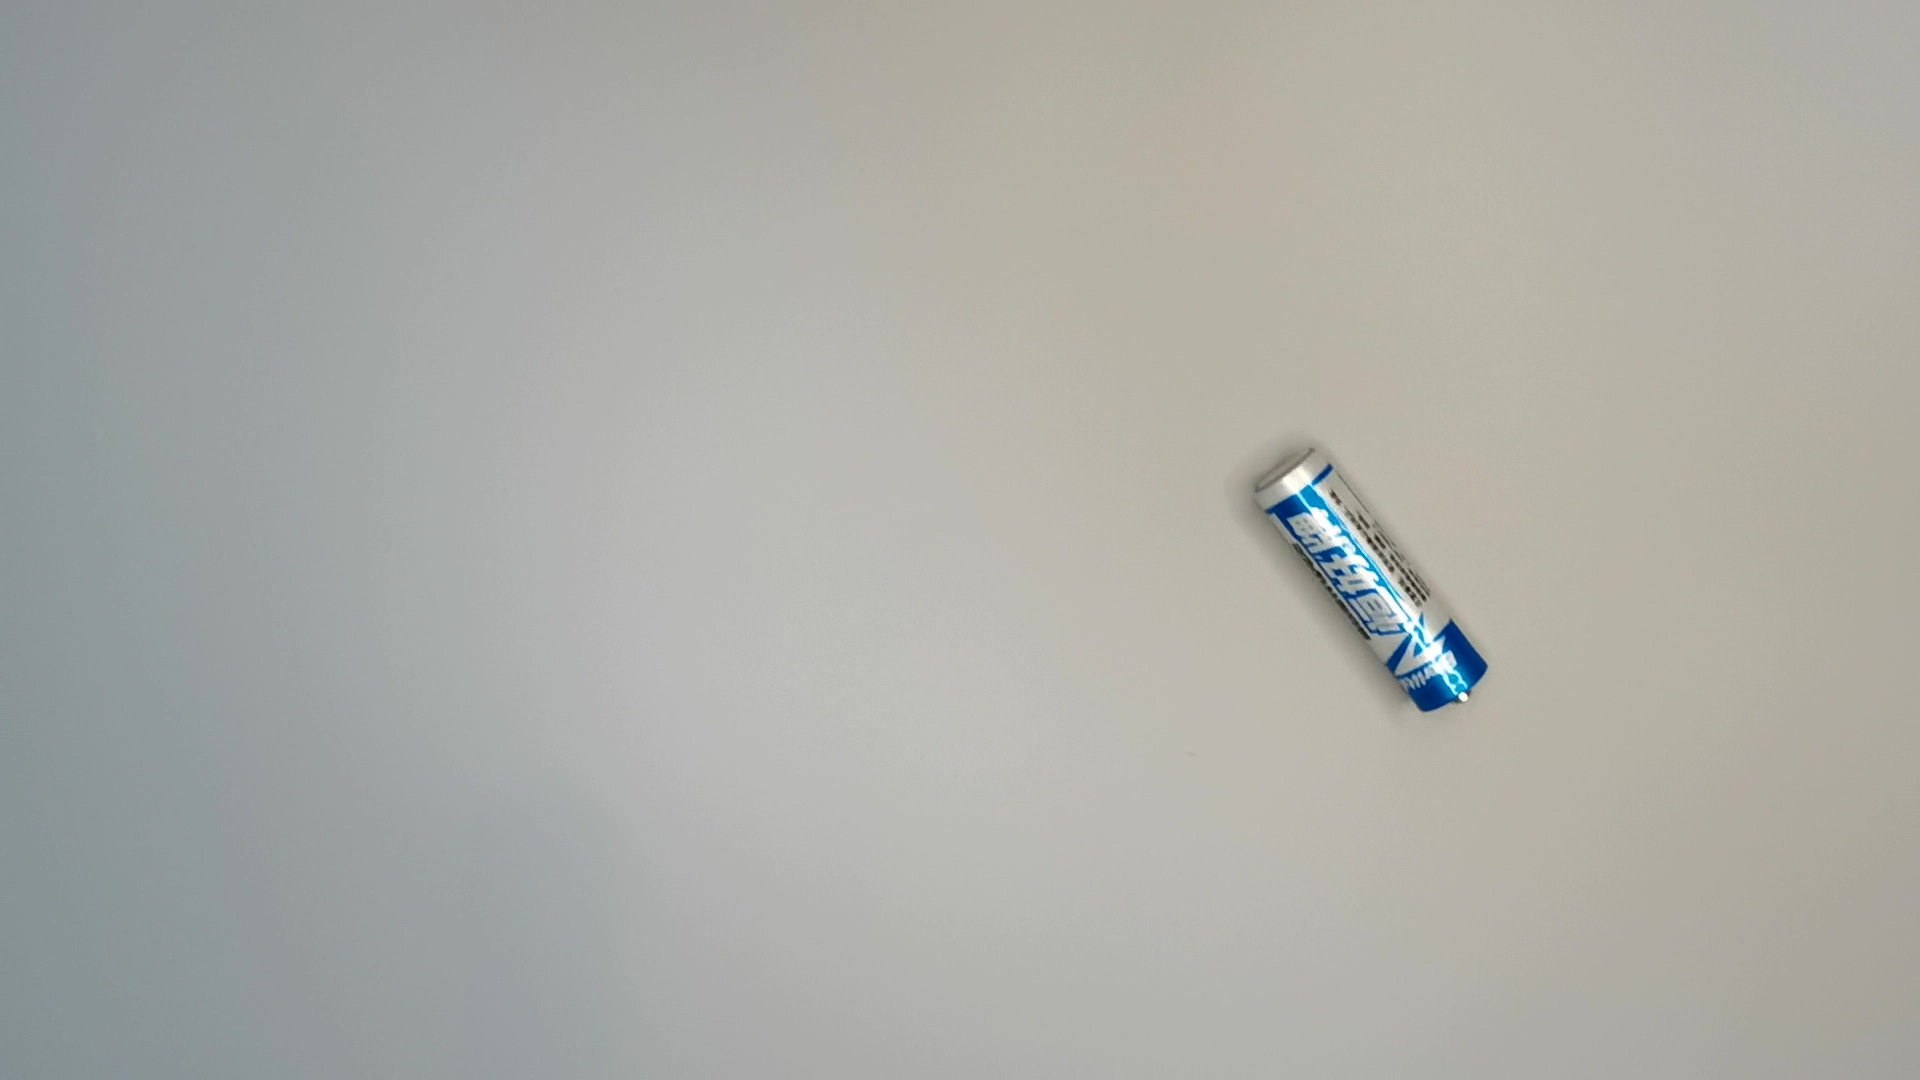battery: (1255, 442, 1493, 727)
